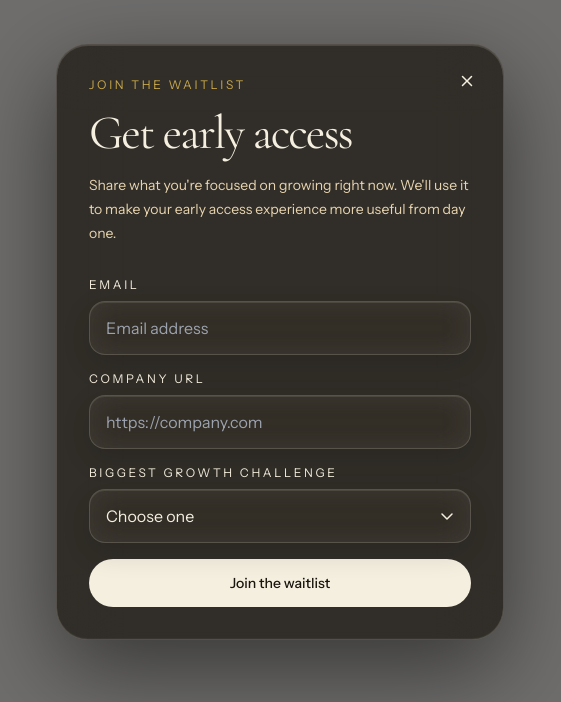
WaitlistModal › rejects invalid email before submitting
In the field with placeholder "Email address": (280, 328) [89,301,471,355], type "founder"
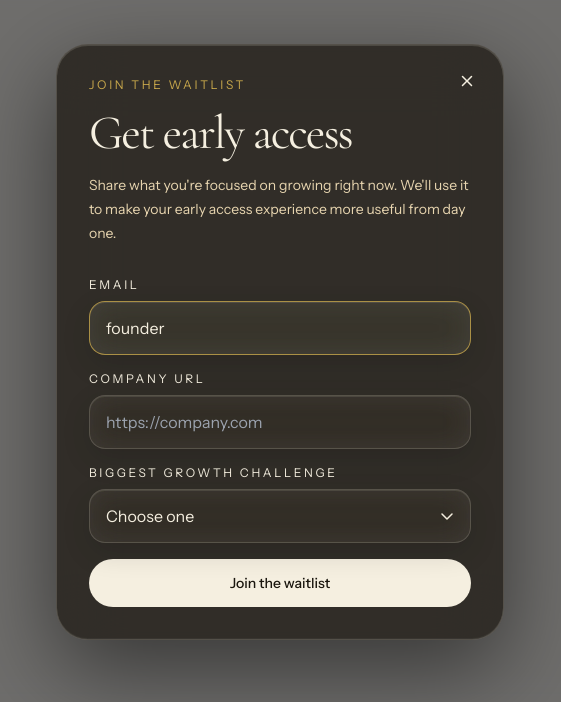
In the field with placeholder "https://company.com": (280, 422) [89,395,471,449], type "acme.com"
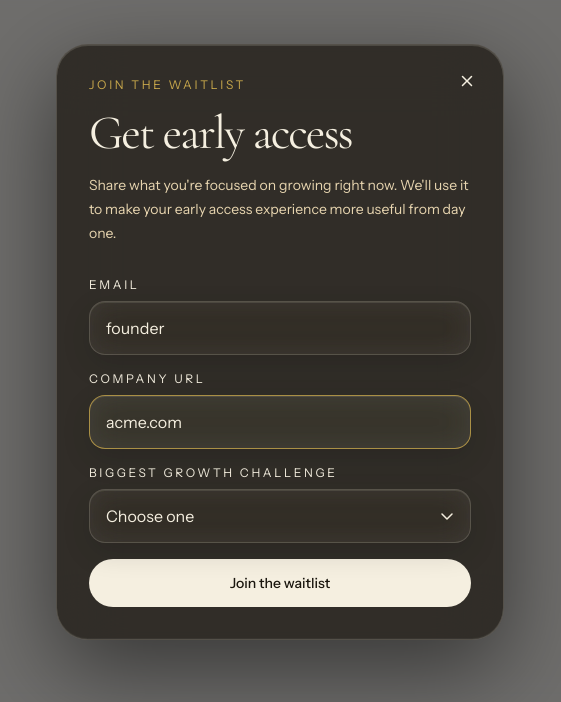
Select "distribution" in the dropdown labelled "Biggest growth challenge": (280, 516) [89,489,471,543]
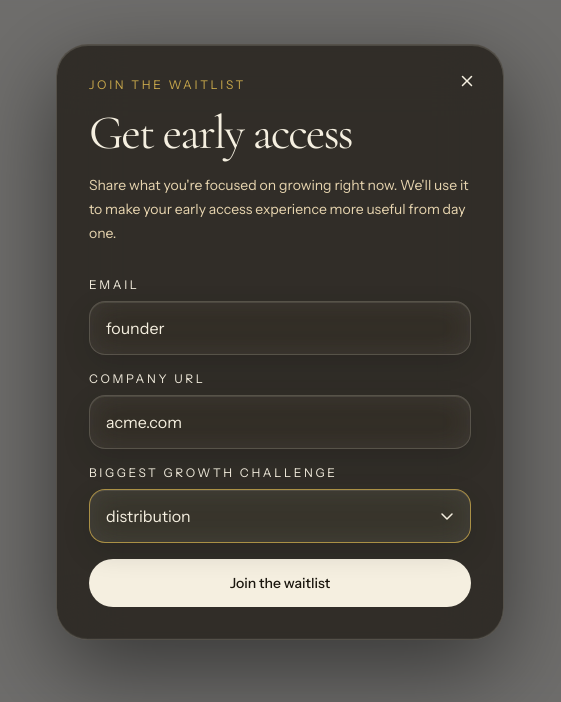
Click the button "Join the waitlist": (280, 583) [89,559,471,607]
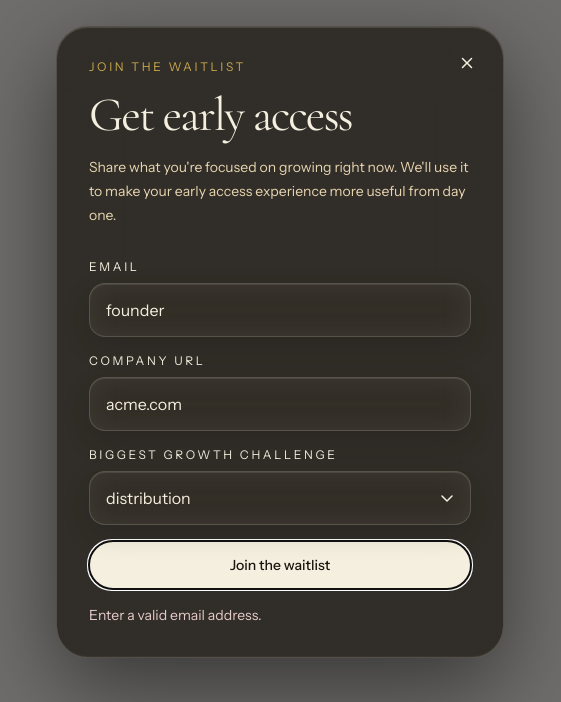
Result: the text "Enter a valid email address." is shown at [89,606,262,624]
